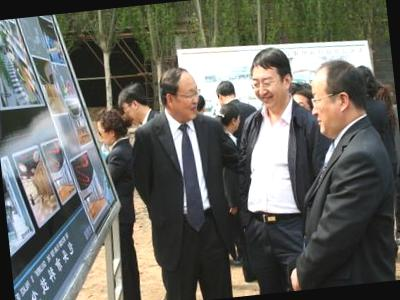no_helmet: (308, 54, 376, 139), (245, 42, 298, 111), (160, 64, 204, 122), (113, 78, 154, 126), (92, 106, 127, 148), (215, 99, 248, 137), (212, 77, 240, 111)
